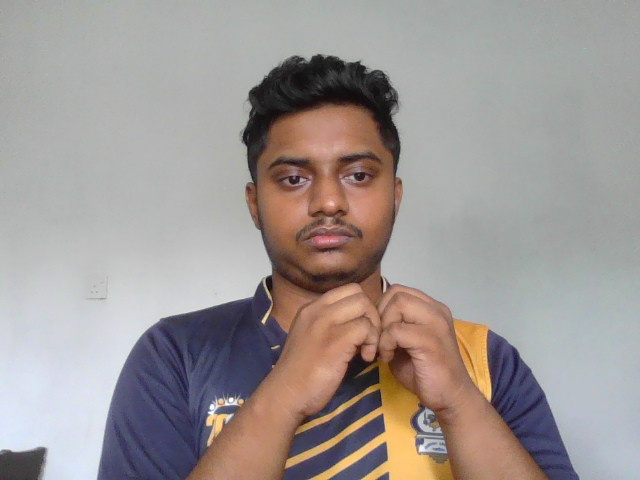More: (279, 283, 475, 417)
